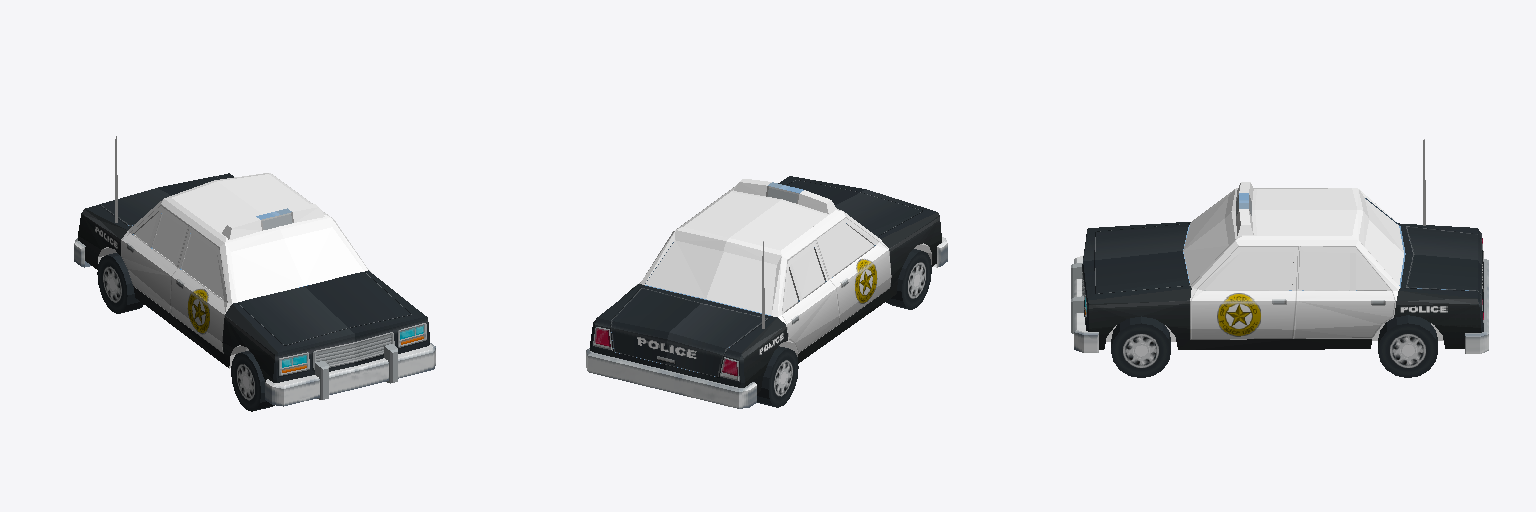
3 views of the same model, side by side, from view 1: azimuth 30°, elevation 25°; view 2: azimuth 150°, elevation 25°; view 3: azimuth 270°, elevation 25° (orthographic).
Visible parts, largest first — view 1: PoliceCar; view 2: PoliceCar; view 3: PoliceCar.
Part boxes in pixels (left/top/right/bottom): PoliceCar: left=74, top=136, right=435, bottom=411; PoliceCar: left=586, top=176, right=947, bottom=408; PoliceCar: left=1071, top=139, right=1488, bottom=377.
Bounding box in the file's own units: 2.44 × 2.37 × 5.39.
Materials: 13 (9 with a texture image).